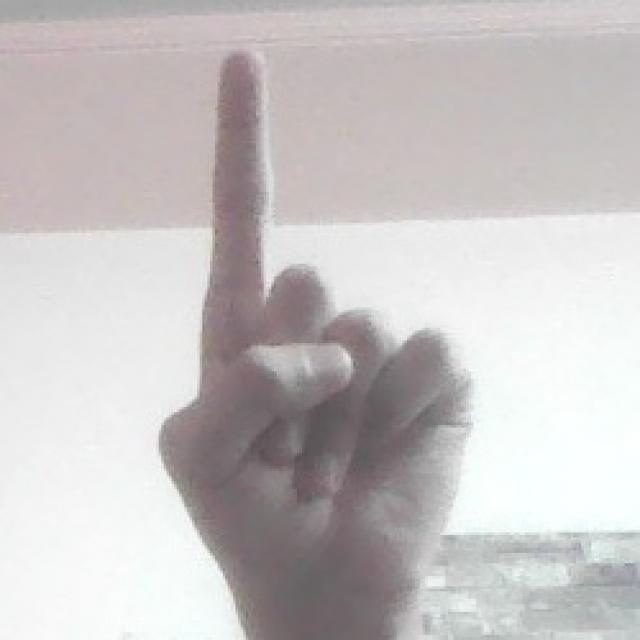Numeric-1: (160, 44, 466, 631)
